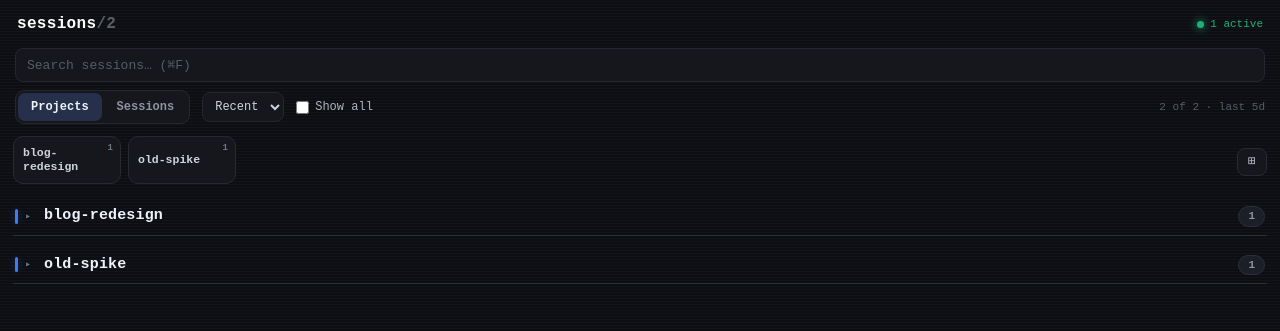
Scenario: DashboardPage › the board has to translate live sessions into a glanceable triage grid without crashing › renders one row per session with its derived status chip and title
Click the tab "Sessions". click: x=145, y=107
box: [104,93,187,121]
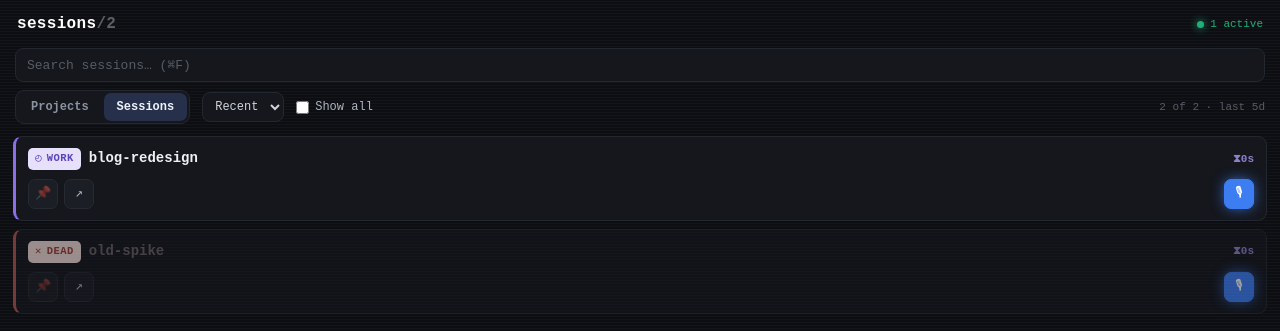
Expected: the text "WORK" is shown, [47,152,74,164]
Expected: the text "DEAD" is shown, [47,245,74,257]
